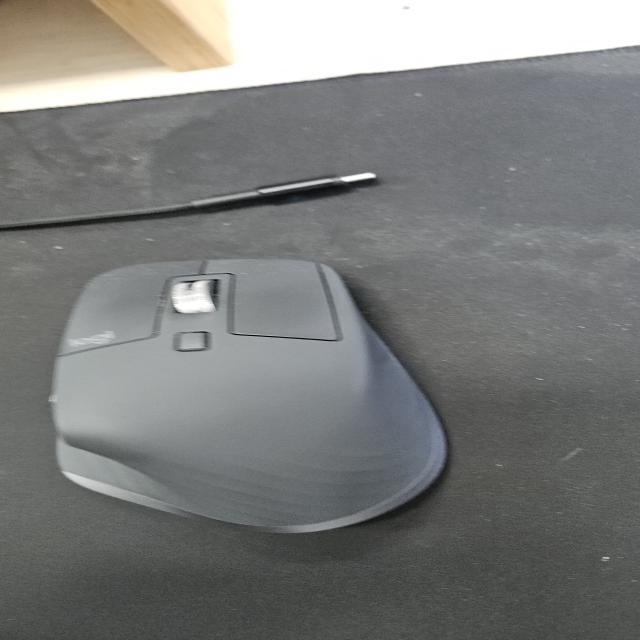Mouse: (46, 256, 452, 534)
